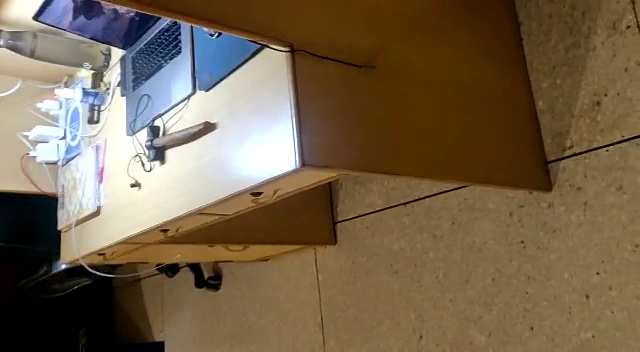hammer: (144, 121, 214, 164)
